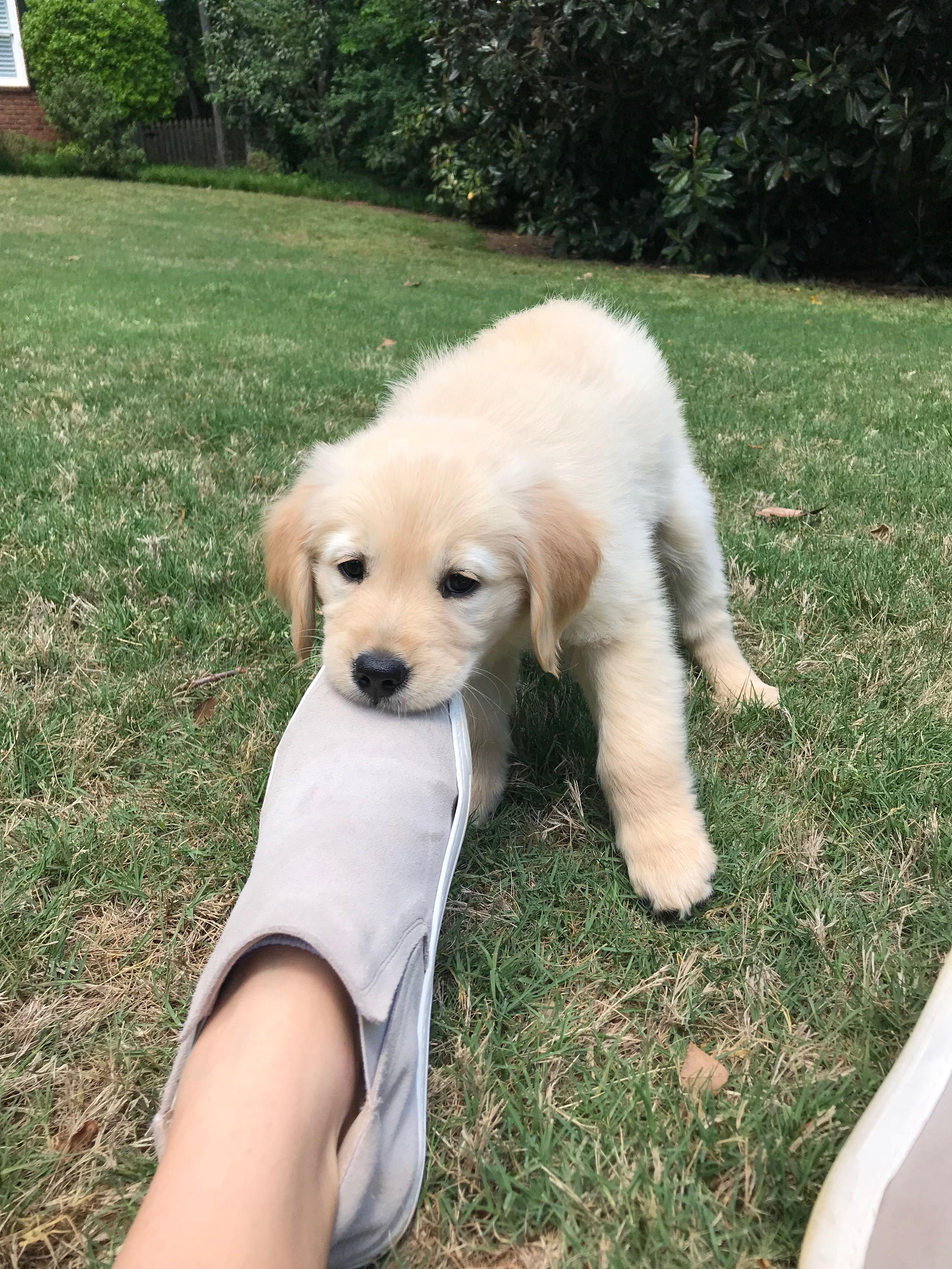puppy-dog: (255, 297, 792, 923)
